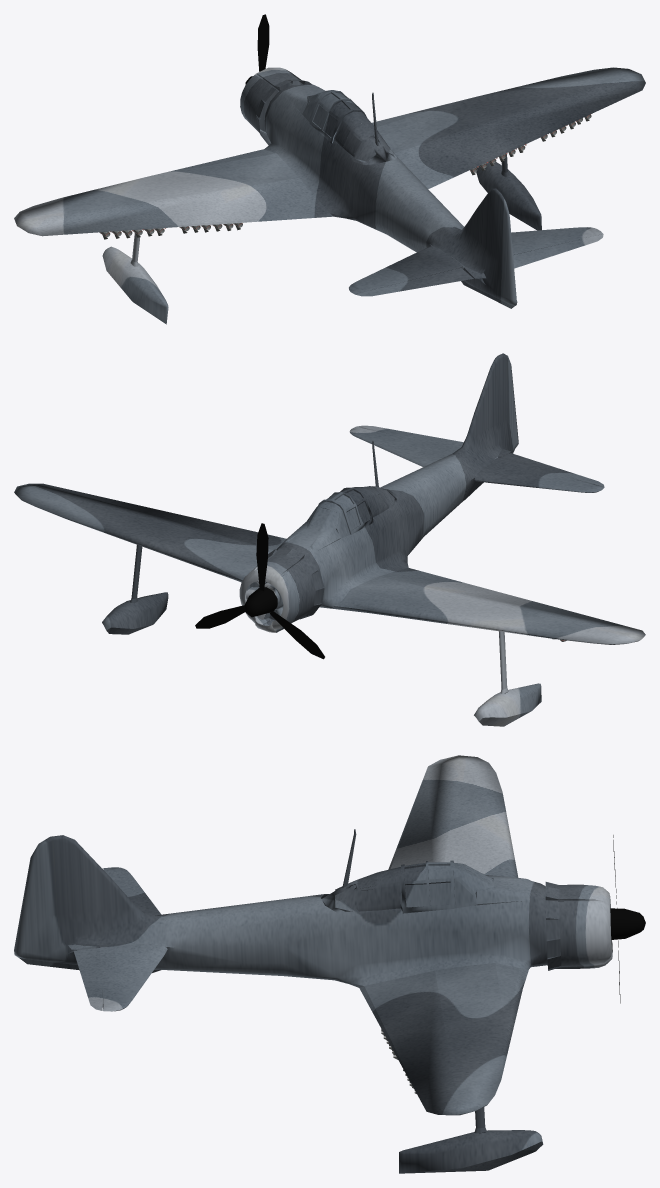
Rendered from SeaPlane_1.FBX.
The picture shows the model from 3 angles, top to bottom: view 1: azimuth 30°, elevation 25°; view 2: azimuth 150°, elevation 25°; view 3: azimuth 270°, elevation 25°; orthographic projection. The views are drawn at different scales.
Visible parts, largest first — view 1: A6M2Fuse; view 2: A6M2Fuse; view 3: A6M2Fuse.
Boxes of the visible parts, x1,y1,x2,y2 form: A6M2Fuse: [14, 14, 645, 324]; A6M2Fuse: [14, 353, 645, 726]; A6M2Fuse: [14, 755, 645, 1173].
Size of the model in its own units: 8.73 by 2.68 by 6.49.
Materials: 3 (3 with a texture image).
